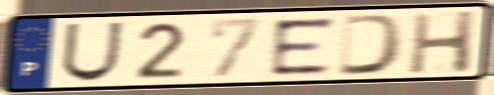2: (136, 20, 189, 81)
7: (207, 16, 261, 80)
D: (335, 12, 408, 77)
E: (269, 15, 337, 78)
H: (406, 8, 480, 76)
U: (58, 20, 127, 84)
